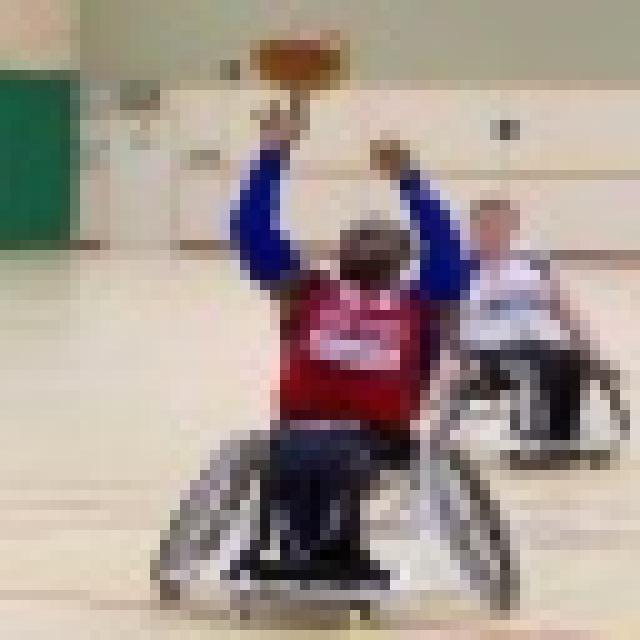wheelchairs: (146, 377, 521, 618), (441, 323, 634, 471)
